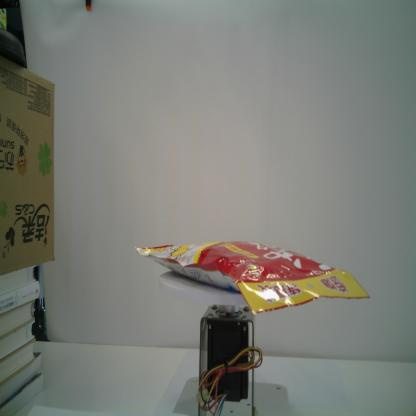Instant Drink: (135, 240, 370, 316)
